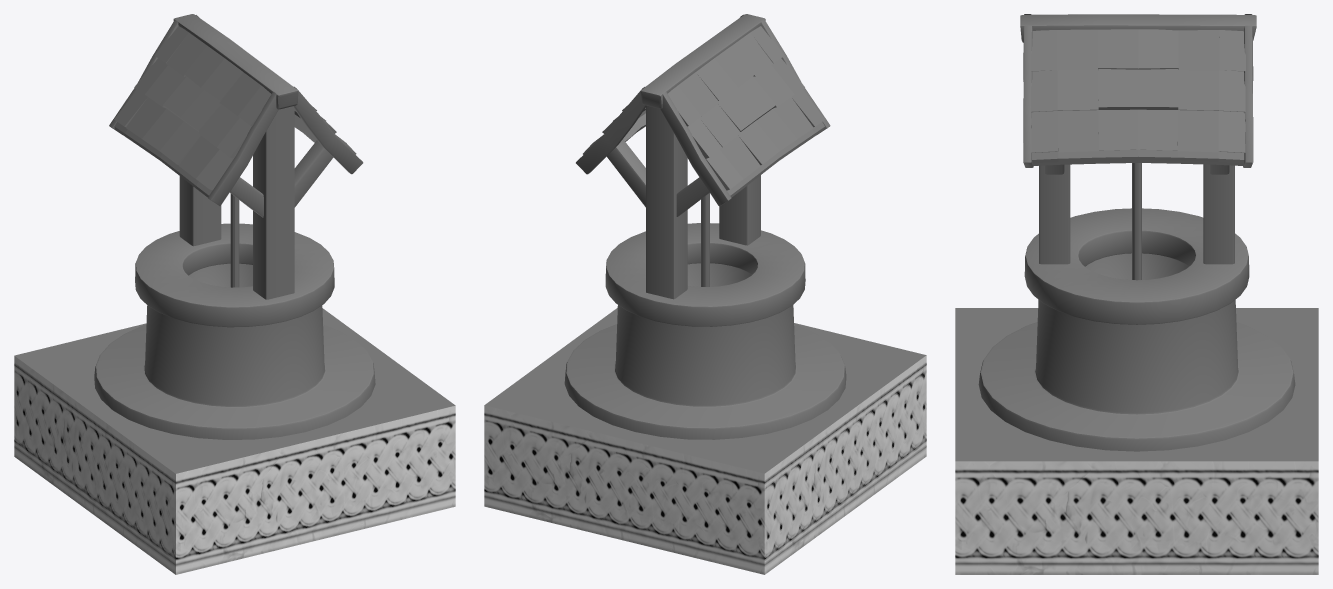
Rendered from med_tile_ew_boundary_well_hd.fbx.
3 views of the same model, side by side, from view 1: azimuth 30°, elevation 25°; view 2: azimuth 150°, elevation 25°; view 3: azimuth 270°, elevation 25° (orthographic). The views are drawn at different scales.
Visible parts, largest first — view 1: med_tile_ew_well, med_tile_ew_boundary_well_hd; view 2: med_tile_ew_well, med_tile_ew_boundary_well_hd; view 3: med_tile_ew_well, med_tile_ew_boundary_well_hd.
Boxes of the visible parts, bbox=[...] form: med_tile_ew_well: bbox=[94, 14, 375, 439]; med_tile_ew_boundary_well_hd: bbox=[14, 308, 455, 574]; med_tile_ew_well: bbox=[564, 14, 846, 439]; med_tile_ew_boundary_well_hd: bbox=[484, 308, 926, 574]; med_tile_ew_well: bbox=[978, 14, 1295, 451]; med_tile_ew_boundary_well_hd: bbox=[955, 308, 1318, 574].
Size of the model in its own units: 100 by 146 by 100.
